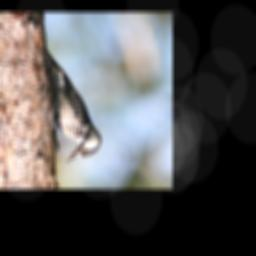Woodpecker: (46, 44, 102, 163)
